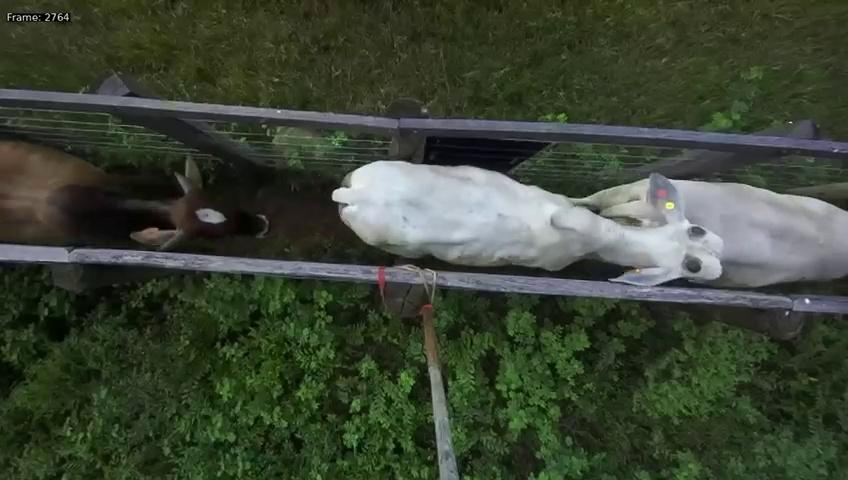cattle: (321, 152, 735, 289), (0, 129, 277, 257)
